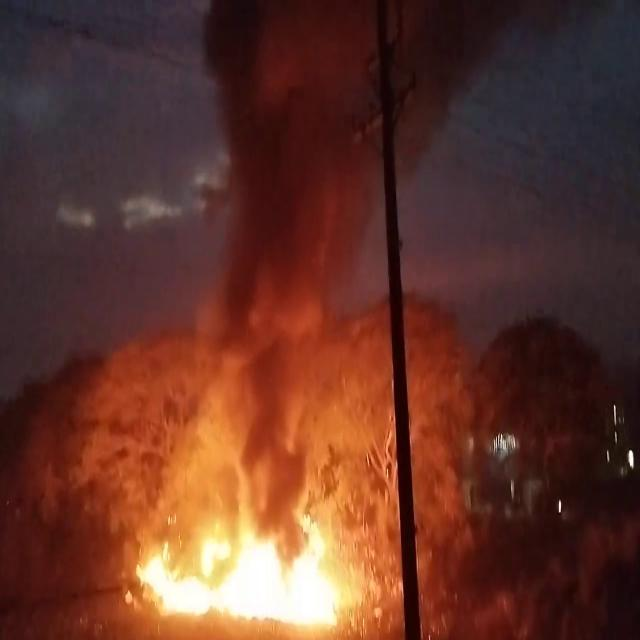Fire: (125, 484, 372, 636)
Smoke: (140, 1, 468, 473)
